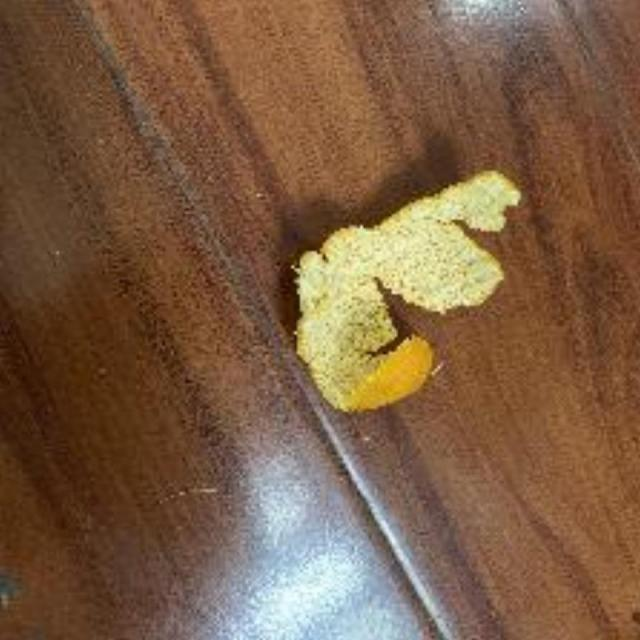banana-peel: (292, 168, 523, 417)
